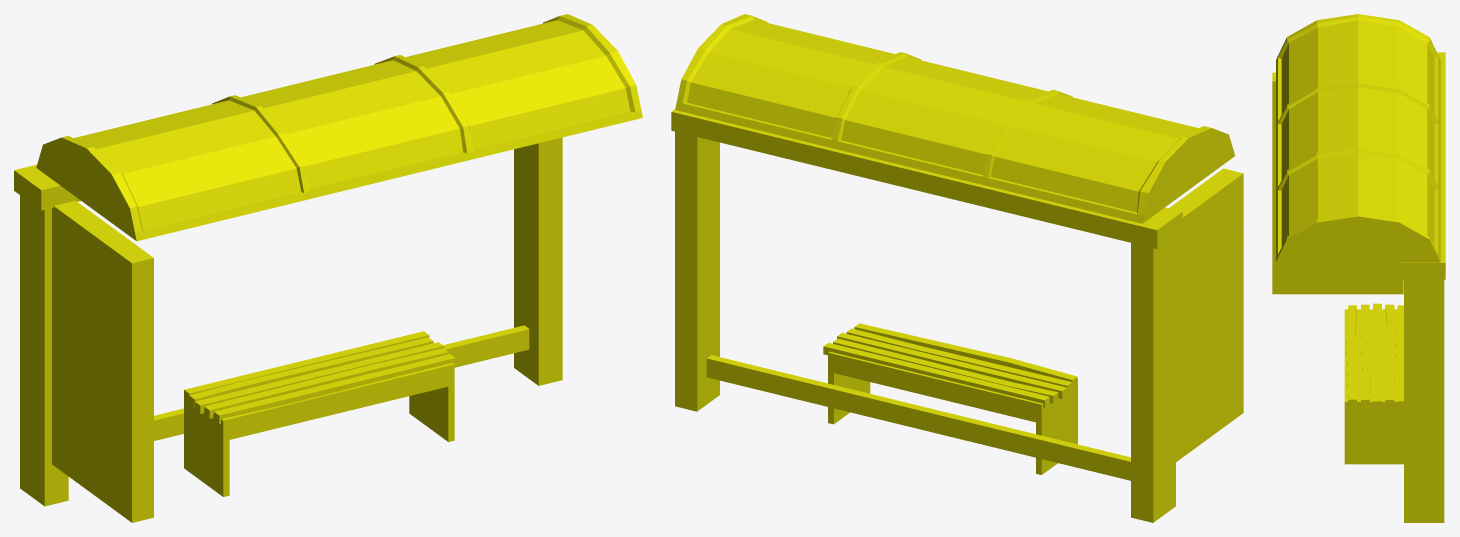
Rendered from cty_busstop.glb.
The picture shows the model from 3 angles, left to right: view 1: azimuth 30°, elevation 25°; view 2: azimuth 150°, elevation 25°; view 3: azimuth 270°, elevation 25°; orthographic projection. The views are drawn at different scales.
Visible parts, largest first — view 1: SM_Prop_BusStop_01; view 2: SM_Prop_BusStop_01; view 3: SM_Prop_BusStop_01.
Boxes of the visible parts, x1,y1,x2,y2 form: SM_Prop_BusStop_01: [14, 14, 642, 522]; SM_Prop_BusStop_01: [671, 14, 1243, 522]; SM_Prop_BusStop_01: [1272, 14, 1445, 522].
Bounding box in the file's own units: 0.0451 × 0.0307 × 0.0157.
Materials: 1 (1 with a texture image).
